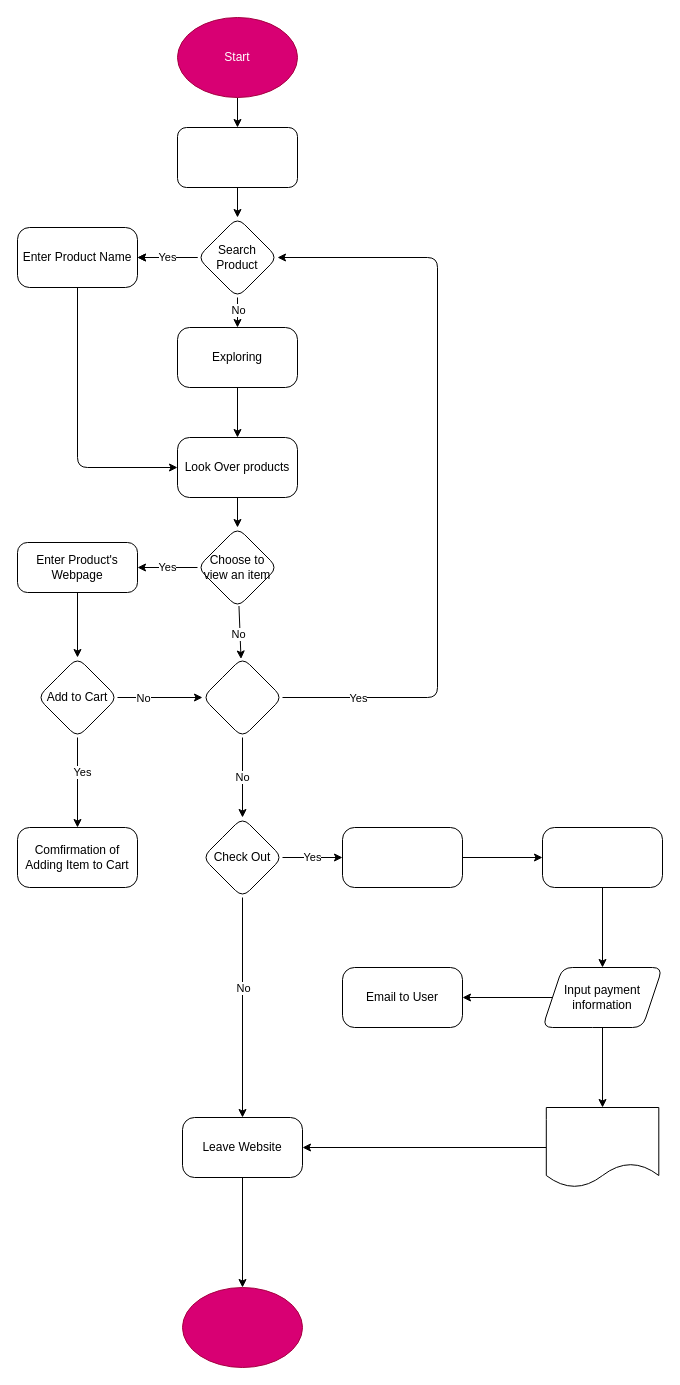
This 680x1385 diagram has some shape labels left out. The box of each missing label's shape, as (x1, y1, x2, y2) in pixels:
Continue Shoping: (202, 656, 282, 738)
End: (182, 1286, 302, 1368)
Enter Website: (176, 126, 298, 188)
Order Comfirmation Screen: (545, 1106, 659, 1188)
View Cart Screen: (342, 826, 462, 888)
View Payment Screen: (542, 826, 662, 888)
